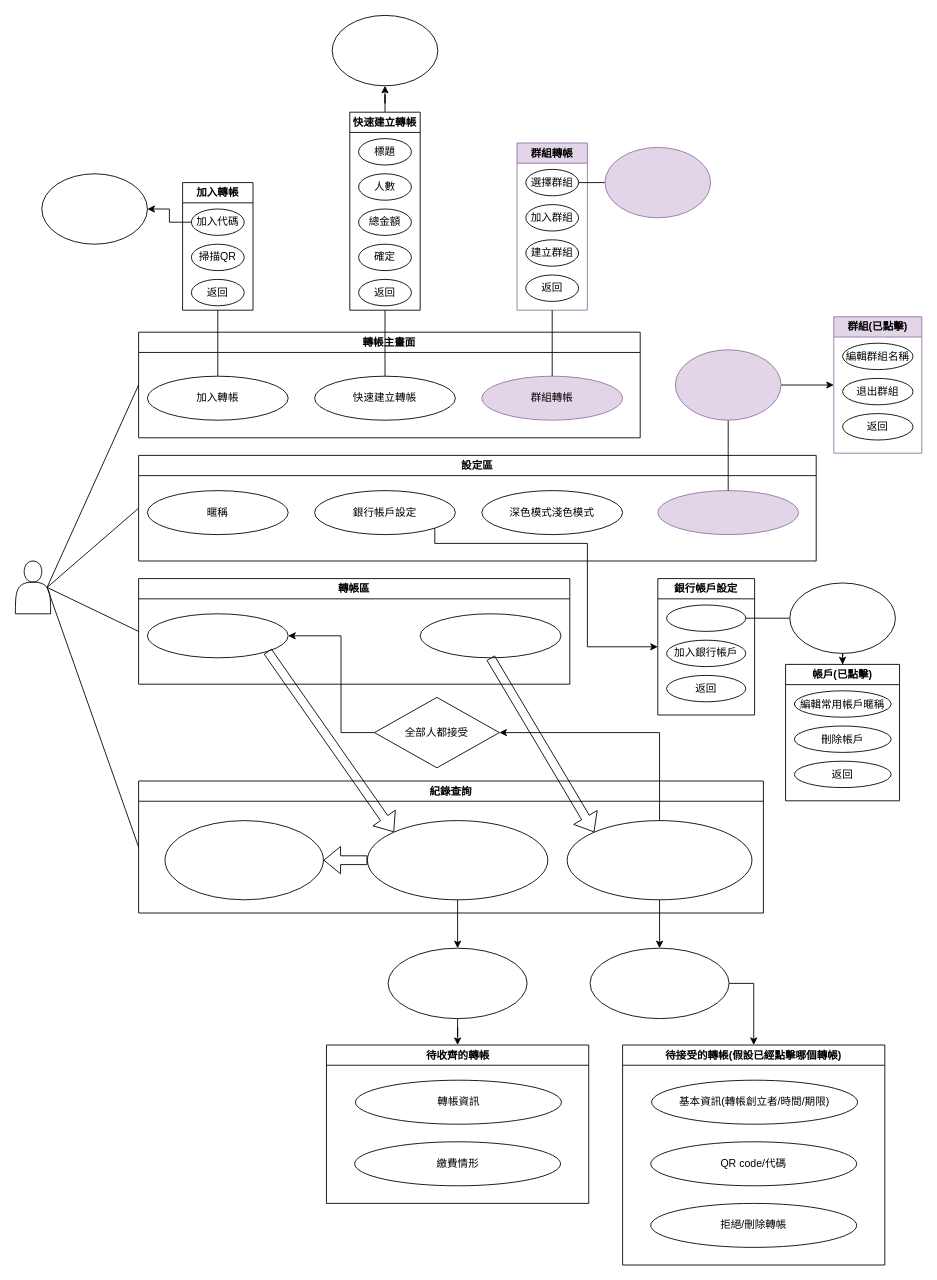
Image size: 937x1280. Some labels were removed from this diagram. The centre of each missing label's shape, as x and y in pixels:
"列出常用帳戶(點擊)" goes at point 842,617.
"列出所有你付款 但還沒送出的轉帳" goes at point 457,983.
"列出所有待接受的轉帳" goes at point 659,983.
"列出所有群組(點擊)" goes at point 728,384.
"已轉帳紀錄 (轉帳完成的紀錄)" goes at point 243,860.
"常用帳戶" goes at point 706,617.
"待付款 (接受完轉帳邀約等待轉帳)" goes at point 217,635.
"待接受 (接收轉帳邀約區 )" goes at point 490,635.
"待接受的轉帳 (自己同意了別人還沒同意) 大家都接受完會到待付款" goes at point 659,860.
"待收齊的轉帳 (已經付款但是不是所有人都付款)" goes at point 457,860.
"查看群組(擴充功能" goes at point 728,512.
"生成QR CODE or 代碼" goes at point 384,50.
"群組功能待處理" goes at point 657,182.
"跳到待接受" goes at point 94,208.
